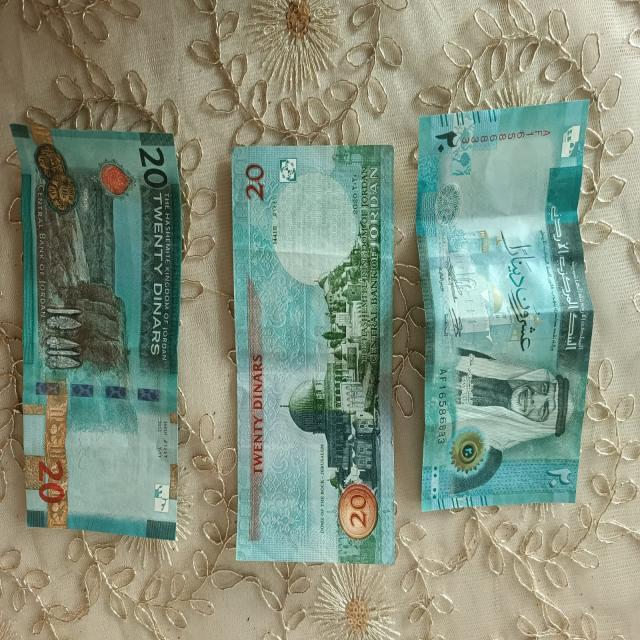20-dinar: (6, 122, 184, 547), (420, 98, 596, 518), (228, 138, 398, 570)
